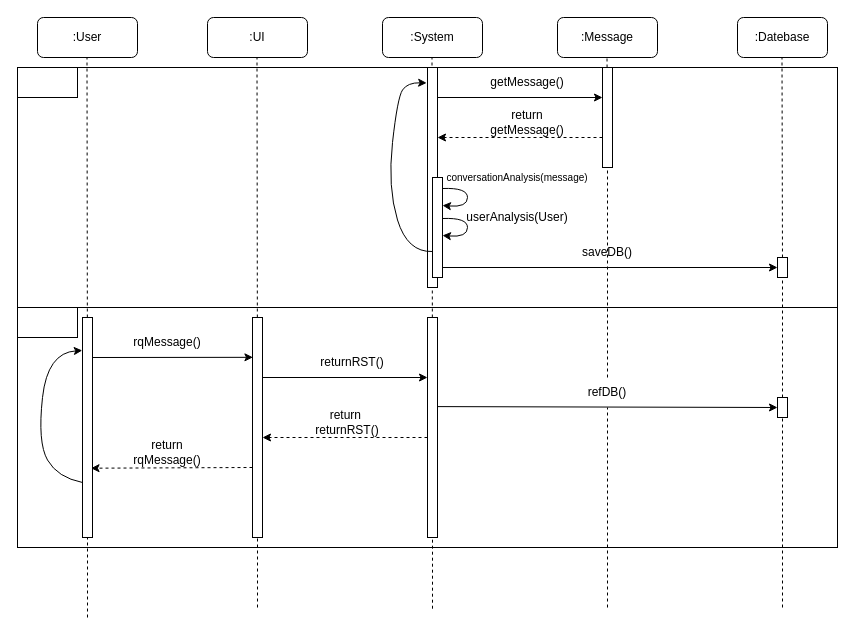
Some shapes in this 855 by 636 pixel diagram are drawn without their labels. The box of each missing label's shape, as (x1, y1, x2, y2) in pixels:
추천 문장 요청 시: (16, 306, 78, 338)
평상 시: (16, 66, 78, 98)
